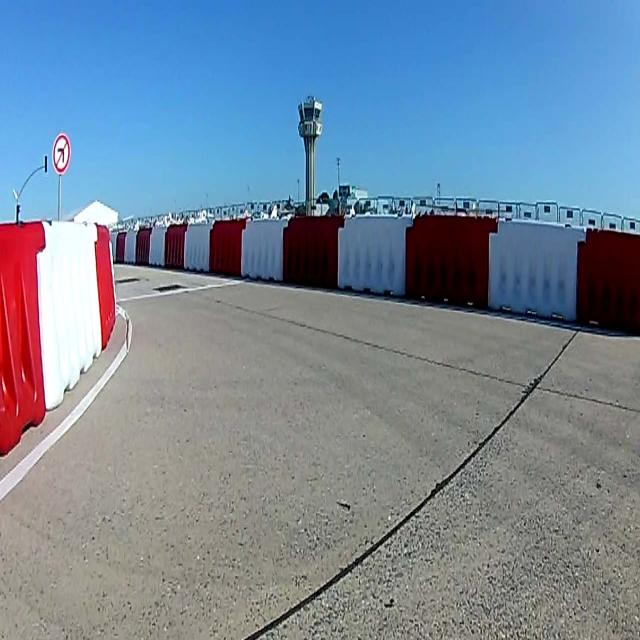soladonulmez: (52, 135, 70, 173)
